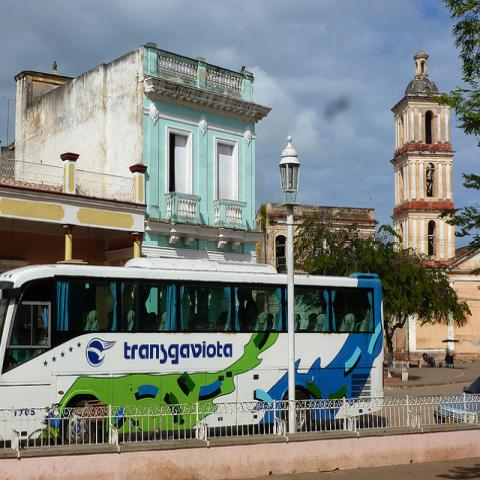bus: (1, 254, 383, 444)
car: (432, 372, 479, 426)
